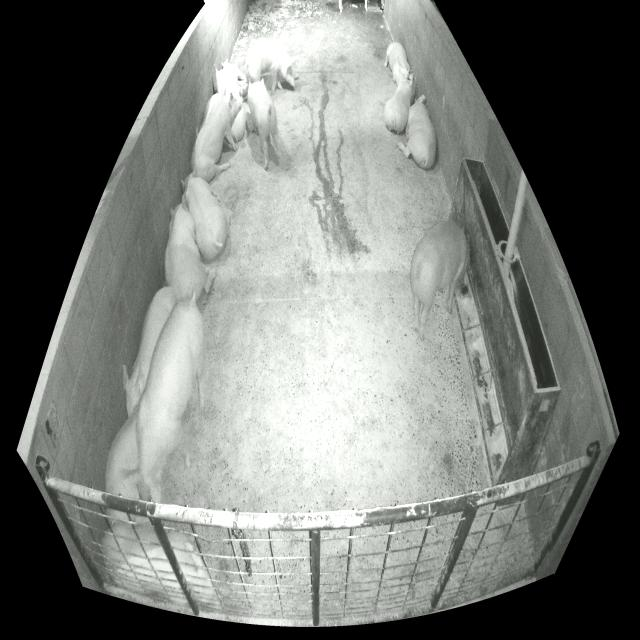pig: (136, 292, 205, 502), (102, 522, 218, 609), (410, 221, 467, 338), (124, 287, 173, 416), (165, 195, 214, 306), (190, 87, 242, 183), (181, 167, 228, 263), (105, 405, 138, 500), (248, 79, 282, 170), (246, 39, 299, 96), (397, 95, 436, 169), (215, 59, 246, 142), (385, 75, 415, 134), (384, 42, 414, 86), (201, 94, 222, 130)
